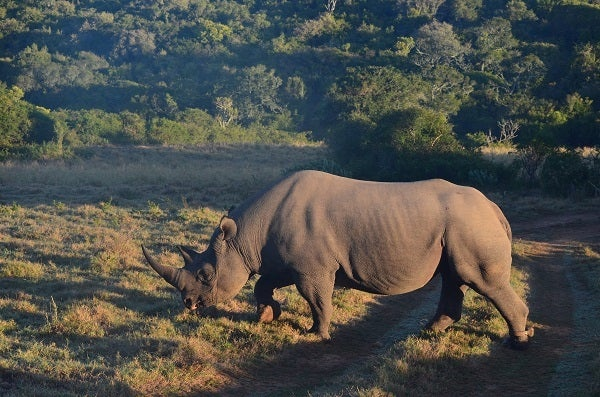rhino: (138, 166, 531, 352)
